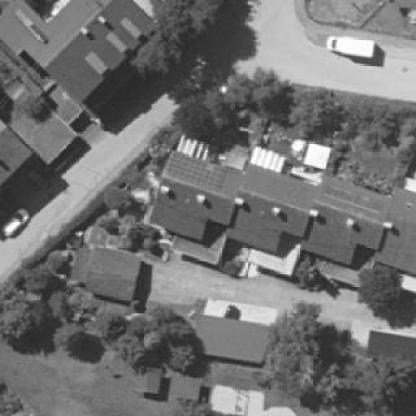solar-pv-panel: (166, 151, 227, 190), (323, 184, 383, 214), (14, 8, 51, 46)
